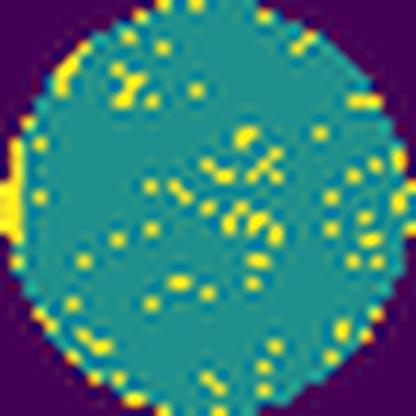Edge-Loc: (0, 133, 35, 249)
